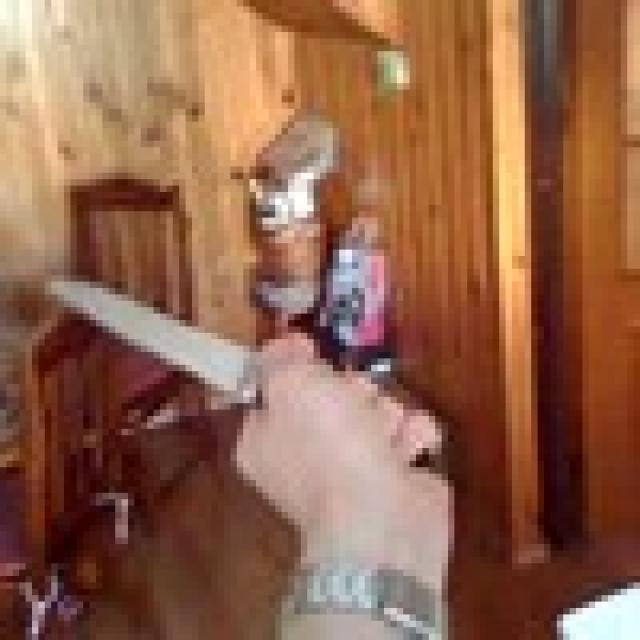Knife: (51, 275, 275, 416)
